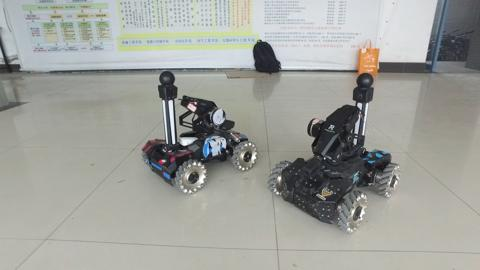chariot: (264, 71, 400, 246), (134, 63, 258, 203)
